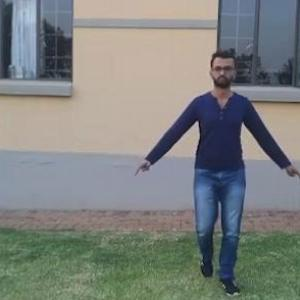land: (153, 65, 290, 255)
